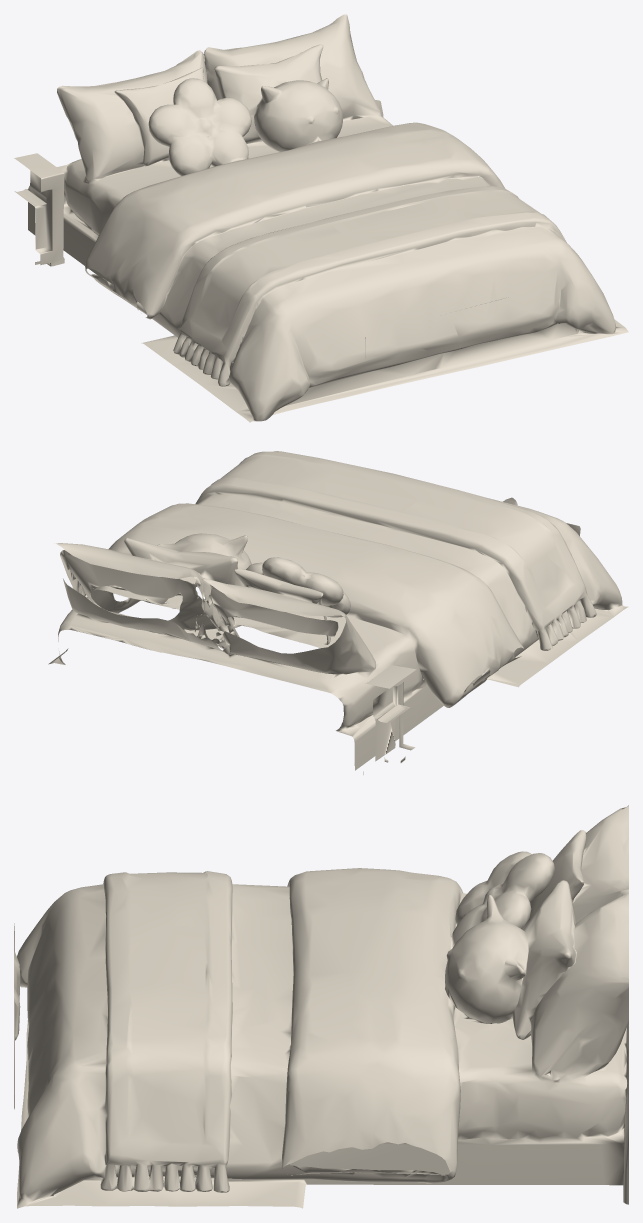
The model's file is bed.glb.
3 views of the same model, one above another, from view 1: azimuth 30°, elevation 25°; view 2: azimuth 150°, elevation 25°; view 3: azimuth 270°, elevation 25° (orthographic). The views are drawn at different scales.
Bounding box in the file's own units: 0.75 × 0.3047 × 0.8242.
